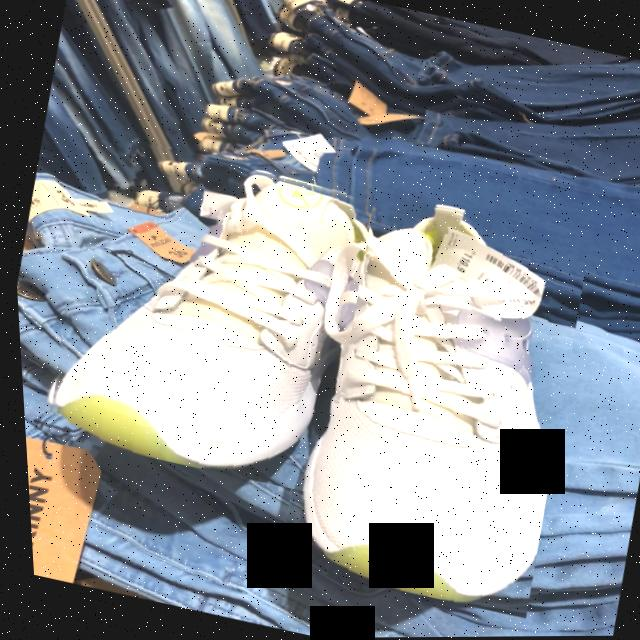shoe: (293, 208, 544, 604), (46, 173, 364, 470)
